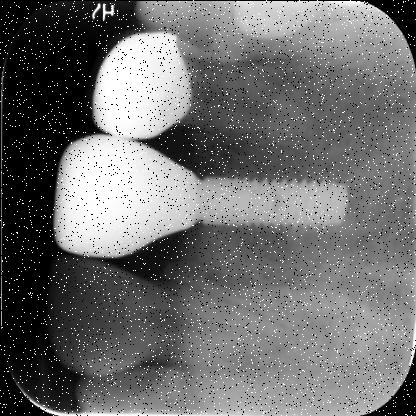ITI: (192, 142, 364, 262)
